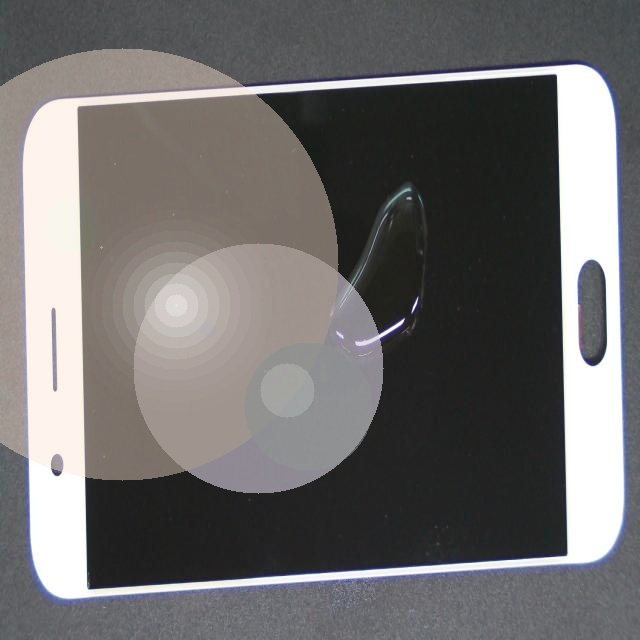oil: (216, 182, 640, 383)
